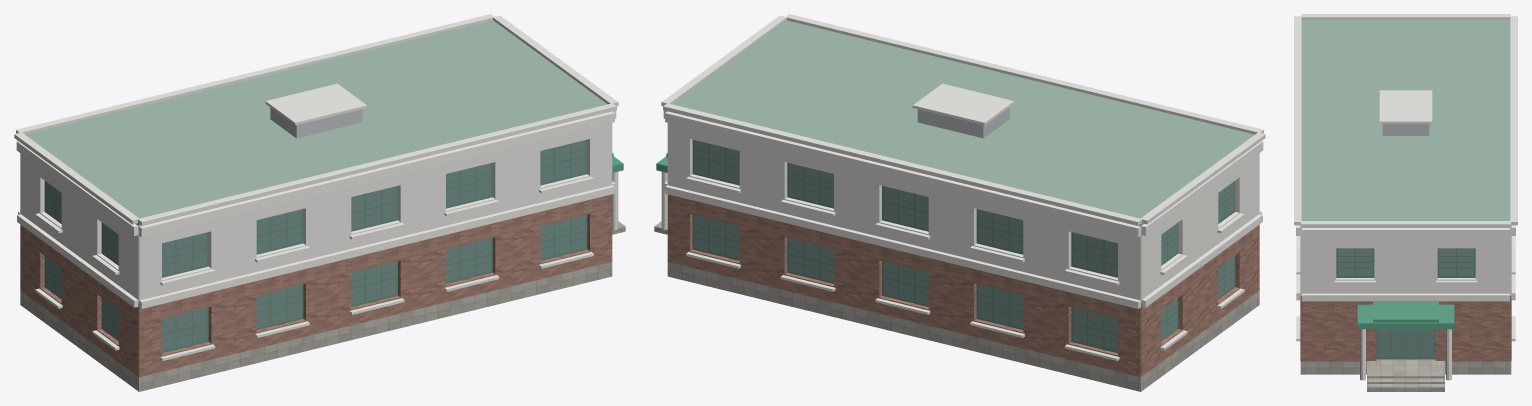
3 renders of one model, left to right at view 1: azimuth 30°, elevation 25°; view 2: azimuth 150°, elevation 25°; view 3: azimuth 270°, elevation 25°, orthographic. The views are drawn at different scales.
Parts seen in each view (by area): view 1: annex-north__roof, annex-north__brick, annex-north__panel, annex-north__glass, annex-north__band, annex-north__cap, annex-north__stone, annex-north__frame, annex-north__sill, annex-north__sideglass, annex-north__greenframe, annex-north__metalroof; view 2: annex-north__roof, annex-north__brick, annex-north__panel, annex-north__sideglass, annex-north__band, annex-north__cap, annex-north__stone, annex-north__frame, annex-north__sill, annex-north__greenframe, annex-north__metalroof; view 3: annex-north__roof, annex-north__panel, annex-north__brick, annex-north__cap, annex-north__band, annex-north__greencanopy, annex-north__sideglass, annex-north__stone, annex-north__glass, annex-north__stair-front, annex-north__frame, annex-north__threshold-front (+3 smaller).
Boxes of the visible parts, x1,y1,x2,y2 form: annex-north__roof: [25, 20, 607, 225]; annex-north__brick: [20, 194, 612, 376]; annex-north__panel: [20, 123, 612, 303]; annex-north__glass: [162, 140, 585, 351]; annex-north__band: [16, 110, 618, 308]; annex-north__cap: [14, 14, 618, 225]; annex-north__stone: [20, 262, 612, 391]; annex-north__frame: [44, 139, 587, 353]; annex-north__sill: [35, 176, 593, 360]; annex-north__sideglass: [45, 181, 118, 338]; annex-north__greenframe: [45, 149, 585, 341]; annex-north__metalroof: [270, 107, 362, 138]; annex-north__roof: [672, 20, 1254, 225]; annex-north__brick: [667, 194, 1259, 376]; annex-north__panel: [667, 123, 1259, 303]; annex-north__sideglass: [694, 140, 1234, 351]; annex-north__band: [661, 110, 1263, 308]; annex-north__cap: [661, 14, 1265, 225]; annex-north__stone: [667, 262, 1259, 391]; annex-north__frame: [692, 139, 1235, 353]; annex-north__sill: [686, 176, 1244, 360]; annex-north__greenframe: [694, 149, 1234, 341]; annex-north__metalroof: [917, 107, 1009, 138]; annex-north__roof: [1300, 19, 1511, 226]; annex-north__panel: [1300, 225, 1511, 296]; annex-north__brick: [1300, 296, 1511, 361]; annex-north__cap: [1294, 14, 1517, 227]; annex-north__band: [1296, 225, 1515, 380]; annex-north__greencanopy: [1357, 301, 1454, 329]; annex-north__sideglass: [1338, 248, 1473, 276]; annex-north__stone: [1300, 361, 1511, 374]; annex-north__glass: [1378, 329, 1433, 357]; annex-north__stair-front: [1367, 373, 1444, 391]; annex-north__frame: [1336, 248, 1475, 359]; annex-north__threshold-front: [1367, 359, 1444, 372].
Size of the model in its own units: 25.78 by 8.71 by 10.62.
Materials: 14 (2 with a texture image).
